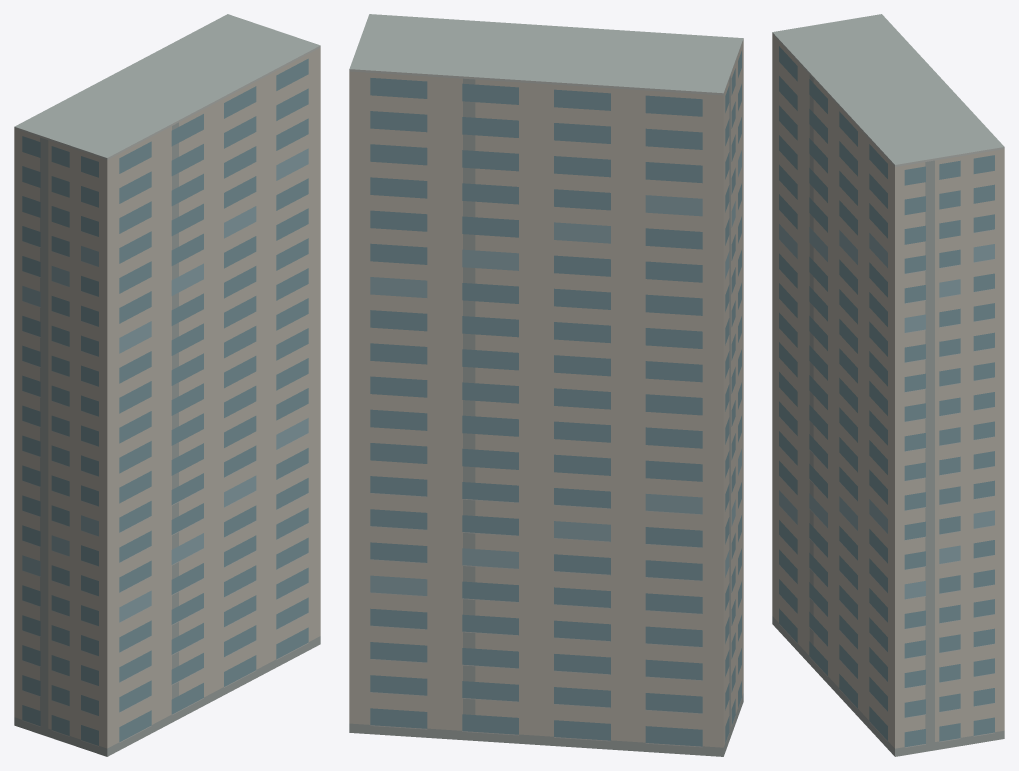
File: residential-53f5a905-83eb-4b18-9d87-2253d6065384.glb
The picture shows the model from 3 angles, left to right: view 1: azimuth 30°, elevation 25°; view 2: azimuth 150°, elevation 25°; view 3: azimuth 270°, elevation 25°; orthographic projection. The views are drawn at different scales.
Visible parts, largest first — view 1: residential-53f5a905-83eb-4b18-9d87-2253d6065384.tmp; view 2: residential-53f5a905-83eb-4b18-9d87-2253d6065384.tmp; view 3: residential-53f5a905-83eb-4b18-9d87-2253d6065384.tmp.
Boxes of the visible parts, left/top/right/bottom form: residential-53f5a905-83eb-4b18-9d87-2253d6065384.tmp: left=14, top=14, right=320, bottom=756; residential-53f5a905-83eb-4b18-9d87-2253d6065384.tmp: left=349, top=14, right=743, bottom=756; residential-53f5a905-83eb-4b18-9d87-2253d6065384.tmp: left=772, top=14, right=1004, bottom=756.
Bounding box in the file's own units: 38.3 × 70 × 24.91.
